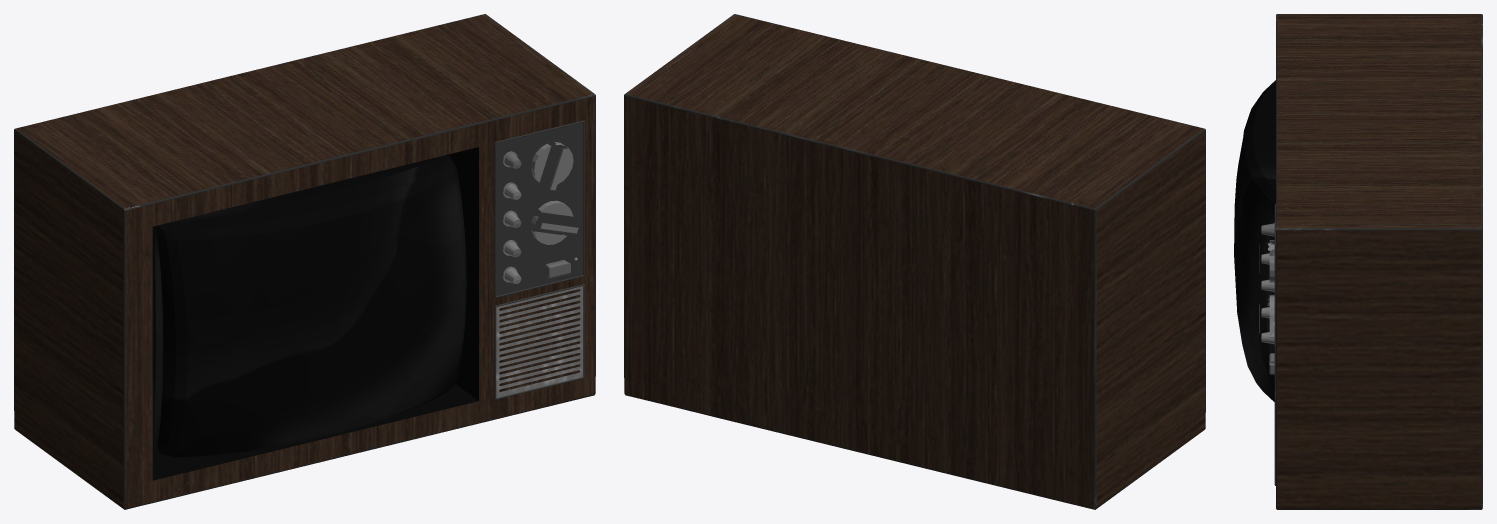
File: television-texturizada2Piezas.FBX
3 views of the same model, side by side, from view 1: azimuth 30°, elevation 25°; view 2: azimuth 150°, elevation 25°; view 3: azimuth 270°, elevation 25° (orthographic). The views are drawn at different scales.
Visible parts, largest first — view 1: Box03; view 2: Box03; view 3: Box03.
Part boxes in pixels (box(x1,y1,x2,y2)): Box03: box(14, 14, 595, 509); Box03: box(624, 14, 1205, 509); Box03: box(1234, 14, 1482, 509).
Size of the model in its own units: 338 by 214 by 165.
1 material, 1 textured.
